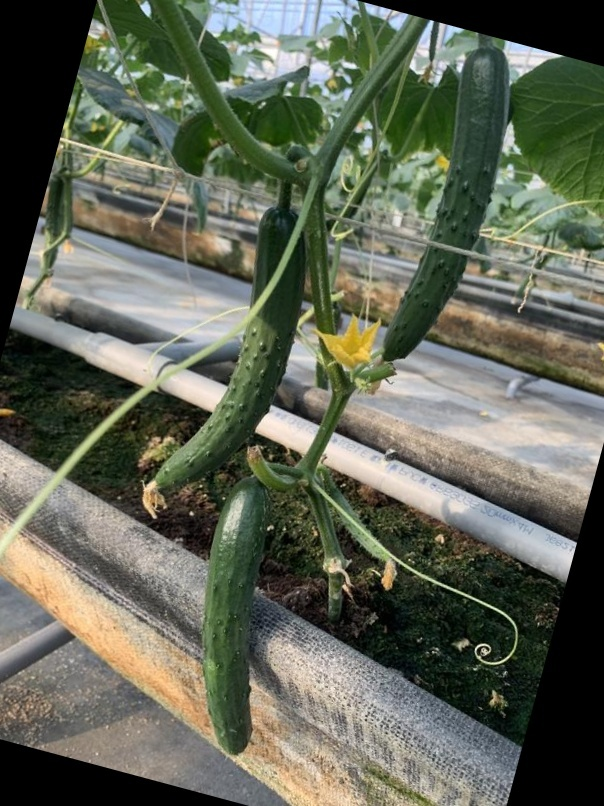mature: (144, 207, 306, 494), (377, 45, 515, 369), (196, 475, 268, 758)
